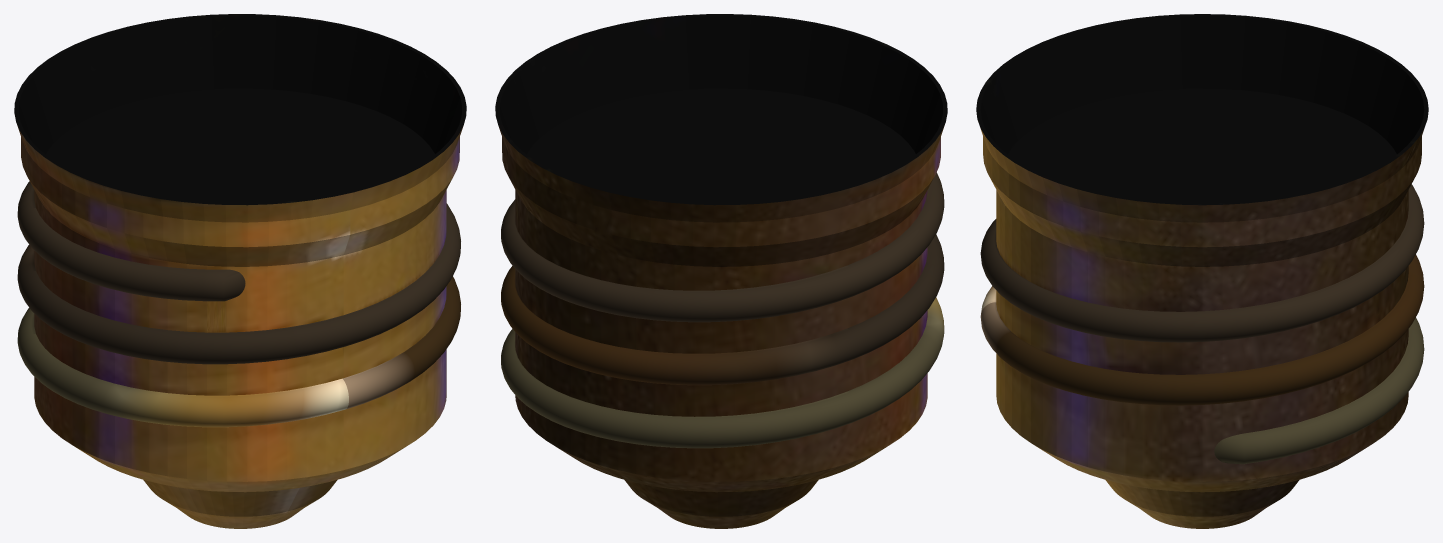
File: bubl_pin.glb
3 renders of one model, left to right at view 1: azimuth 30°, elevation 25°; view 2: azimuth 150°, elevation 25°; view 3: azimuth 270°, elevation 25°, orthographic.
Visible parts, largest first — view 1: bulb_pin; view 2: bulb_pin; view 3: bulb_pin.
Boxes of the visible parts, x1,y1,x2,y2 form: bulb_pin: (14, 14, 466, 528); bulb_pin: (495, 14, 947, 528); bulb_pin: (976, 14, 1428, 528).
Size of the model in its own units: 0.6489 by 0.642 by 0.6489.
1 material, 1 textured.
